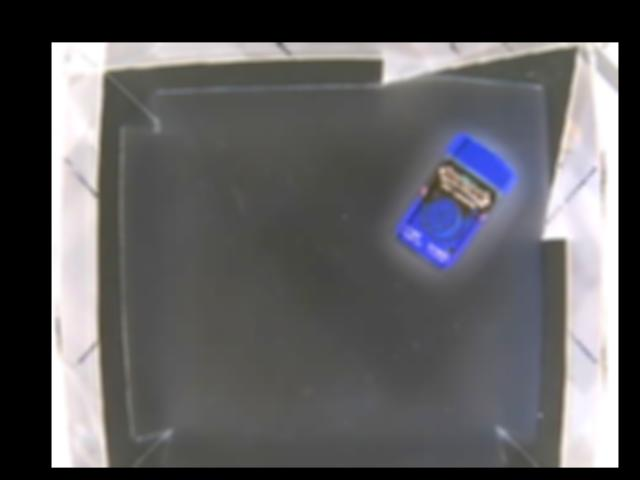Bottle: (388, 134, 517, 276)
